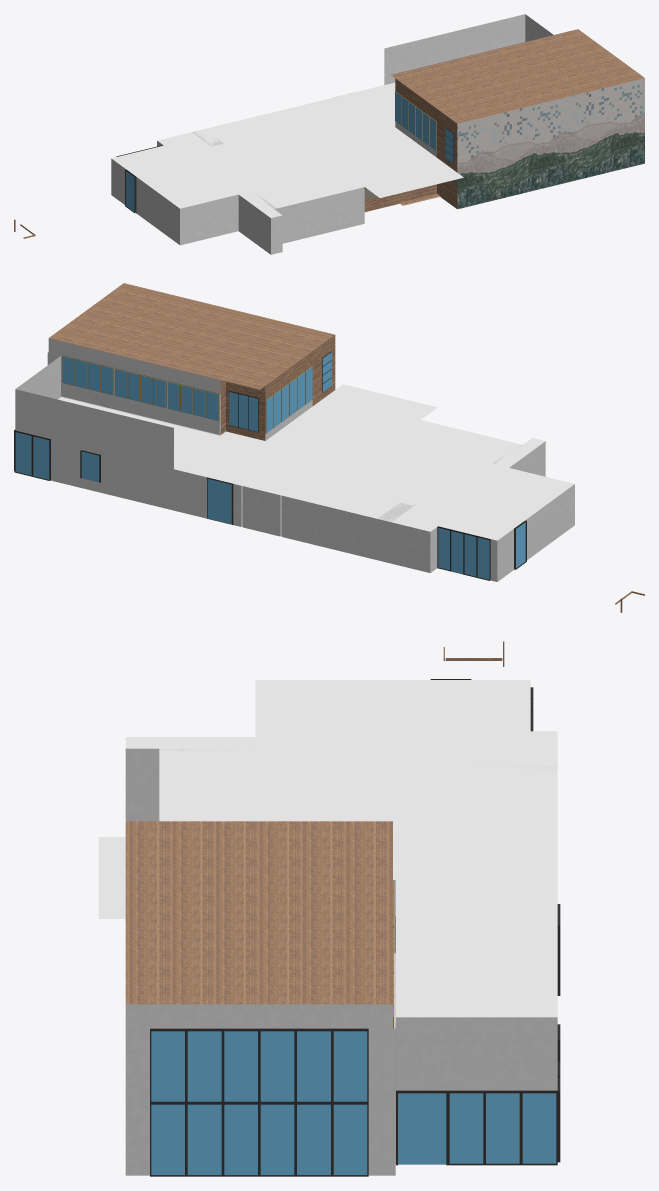
The model's file is BUILDING.obj.
The picture shows the model from 3 angles, top to bottom: view 1: azimuth 30°, elevation 25°; view 2: azimuth 150°, elevation 25°; view 3: azimuth 270°, elevation 25°; orthographic projection. The views are drawn at different scales.
Parts seen in each view (by area): view 1: instance_0.001_ID5.002, SketchUp.014_ID600, SketchUp.008_ID558, instance_0_ID5.001, instance_1.000_ID490.001, instance_0.015_ID99; view 2: instance_0.001_ID5.002, SketchUp.008_ID558, instance_0_ID5.001, instance_0.015_ID99, instance_1.000_ID490.001; view 3: instance_0.001_ID5.002, instance_0_ID5.001, instance_0.015_ID99, SketchUp.008_ID558.
Boxes of the visible parts, x1,y1,x2,y2 form: instance_0.001_ID5.002: (111, 82, 463, 217); SketchUp.014_ID600: (457, 78, 644, 209); SketchUp.008_ID558: (111, 14, 553, 254); instance_0_ID5.001: (391, 29, 644, 123); instance_1.000_ID490.001: (364, 78, 457, 211); instance_0.015_ID99: (116, 91, 453, 213); instance_0.001_ID5.002: (58, 384, 574, 540); SketchUp.008_ID558: (15, 338, 574, 581); instance_0_ID5.001: (49, 283, 334, 389); instance_0.015_ID99: (14, 351, 526, 580); instance_1.000_ID490.001: (220, 335, 335, 440); instance_0.001_ID5.002: (98, 680, 557, 1017); instance_0_ID5.001: (125, 821, 392, 1004); instance_0.015_ID99: (150, 679, 560, 1176); SketchUp.008_ID558: (125, 748, 557, 1175).
Size of the model in its own units: 46.44 by 7.56 by 17.1.
